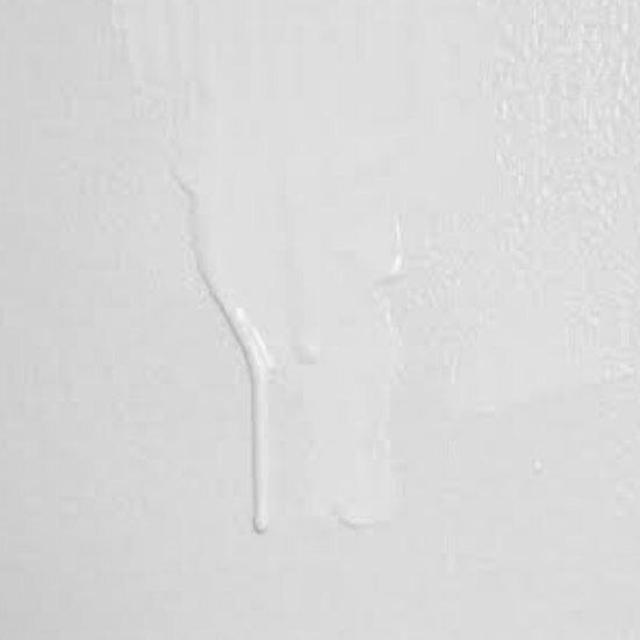paint drips: (156, 130, 289, 539), (322, 206, 429, 545)
